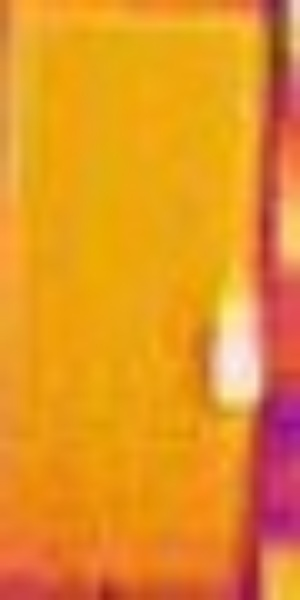Hotspot: (204, 259, 273, 413)
